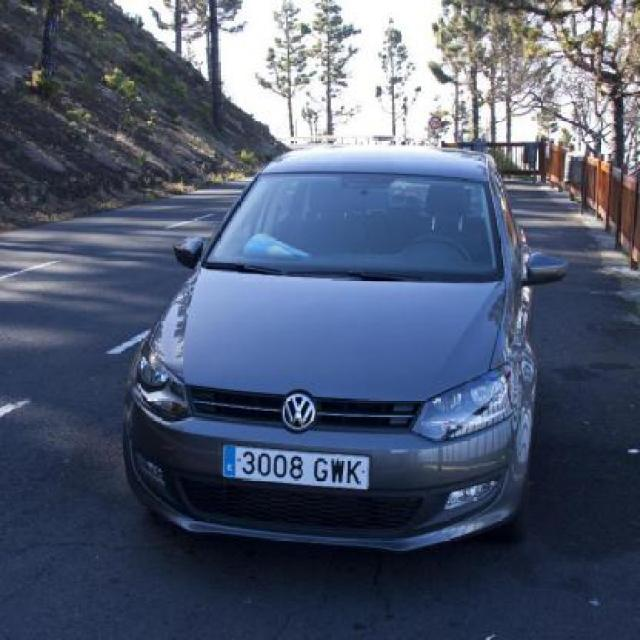License-Plates: (219, 439, 376, 496)
